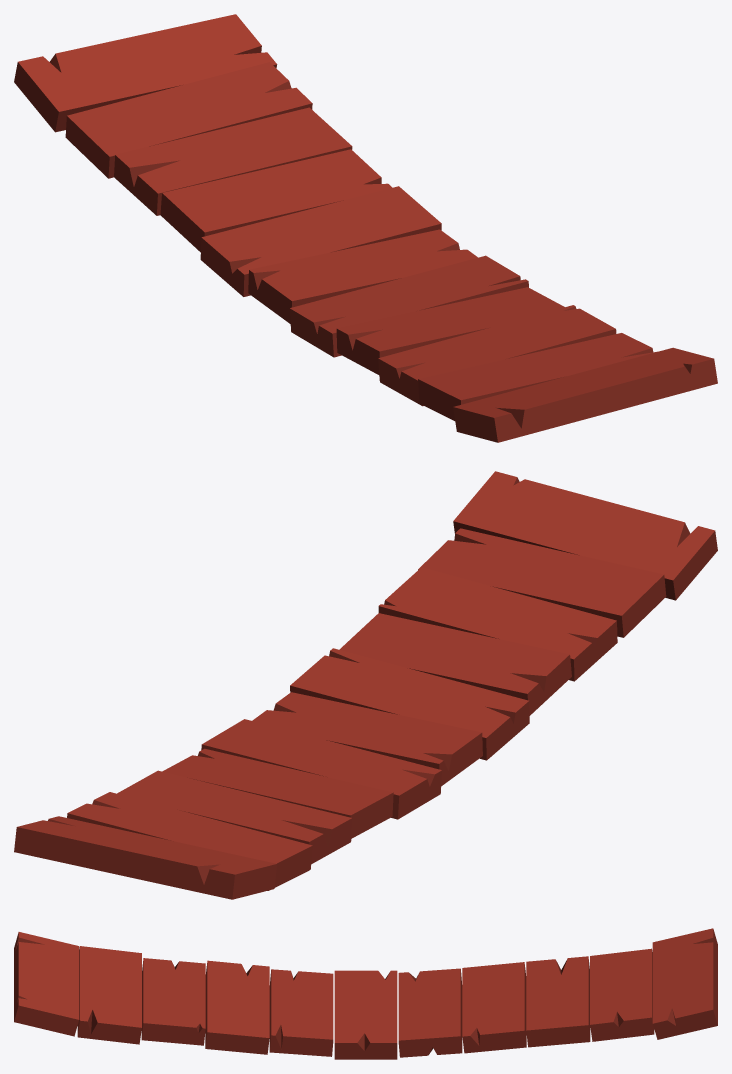
File: Bridge_3_Red.fbx
The picture shows the model from 3 angles, top to bottom: view 1: azimuth 30°, elevation 25°; view 2: azimuth 150°, elevation 25°; view 3: azimuth 270°, elevation 25°; orthographic projection. The views are drawn at different scales.
Parts seen in each view (by area): view 1: Bridge_3_Red_Part_1, Bridge_3_Red_Part_2, Bridge_3_Red_Part_3; view 2: Bridge_3_Red_Part_1, Bridge_3_Red_Part_2, Bridge_3_Red_Part_3; view 3: Bridge_3_Red_Part_1, Bridge_3_Red_Part_2, Bridge_3_Red_Part_3.
Boxes of the visible parts, x1=… form: Bridge_3_Red_Part_1: x1=18, y1=14, x2=713, y2=417; Bridge_3_Red_Part_2: x1=14, y1=62, x2=717, y2=442; Bridge_3_Red_Part_3: x1=50, y1=45, x2=691, y2=428; Bridge_3_Red_Part_1: x1=17, y1=471, x2=714, y2=874; Bridge_3_Red_Part_2: x1=14, y1=521, x2=717, y2=899; Bridge_3_Red_Part_3: x1=48, y1=477, x2=690, y2=884; Bridge_3_Red_Part_1: x1=18, y1=928, x2=713, y2=1042; Bridge_3_Red_Part_2: x1=14, y1=929, x2=717, y2=1059; Bridge_3_Red_Part_3: x1=16, y1=937, x2=715, y2=1054.
Size of the model in its own units: 593 by 209 by 2253.
